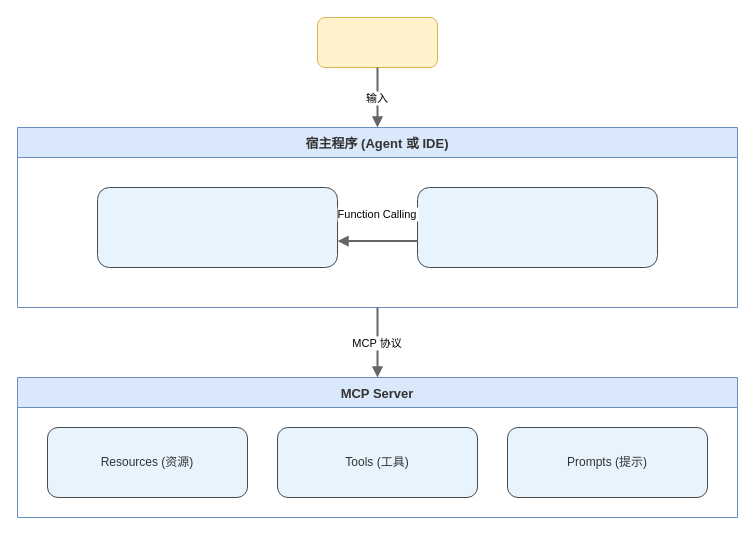
Some shapes in this 755 by 535 pixel diagram are drawn without their labels. Here are the shapes that lost their labels. From the top down, the centre of each, then its label:
At (377,42): "终端用户".
At (217,227): "LLM (语言模型)".
At (537,227): "MCP Client".
